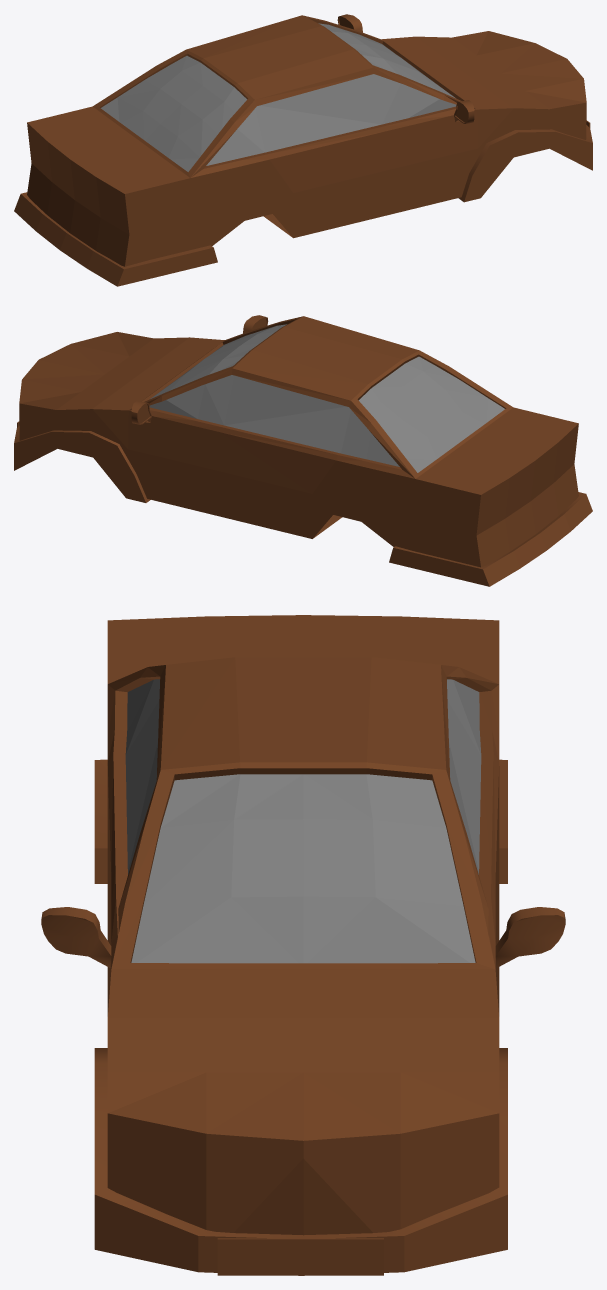
File: SM_car_destroyed_01.fbx
3 views of the same model, one above another, from view 1: azimuth 30°, elevation 25°; view 2: azimuth 150°, elevation 25°; view 3: azimuth 270°, elevation 25° (orthographic). The views are drawn at different scales.
Visible parts, largest first — view 1: Object113; view 2: Object113; view 3: Object113.
Part boxes in pixels (<box>): Object113: <box>14,14,592,286</box>; Object113: <box>14,315,592,586</box>; Object113: <box>41,615,565,1275</box>.
Bounding box in the file's own units: 182 × 50.32 × 81.02.
